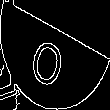O_N: (34, 22, 76, 88)
